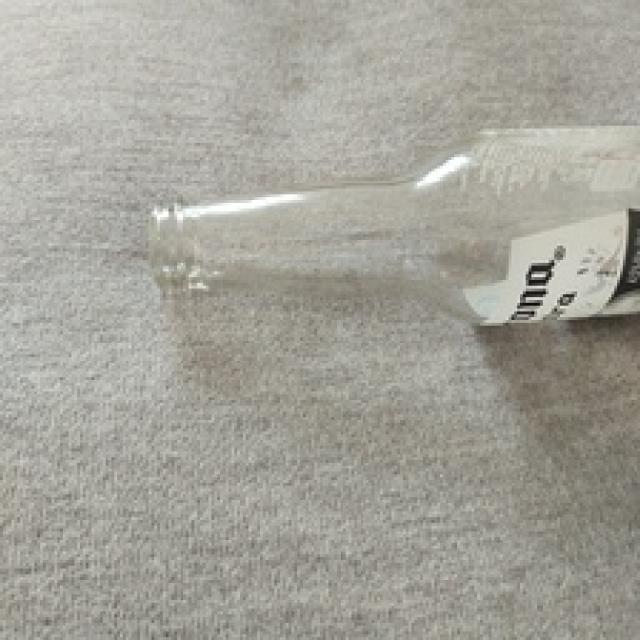Glass: (152, 125, 640, 326)
